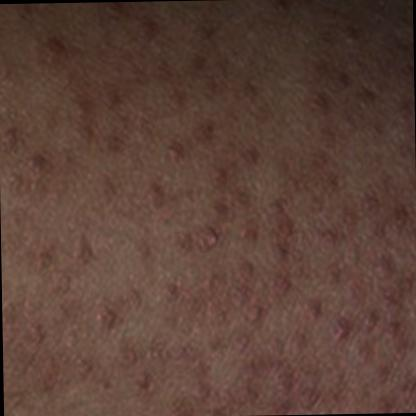Chicken Skin: (34, 0, 416, 412)
